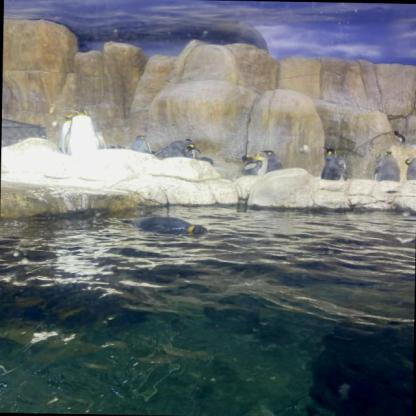penguin: (119, 214, 210, 238), (64, 108, 108, 156), (320, 146, 347, 182), (373, 151, 401, 181), (60, 113, 79, 153), (164, 138, 192, 159), (260, 150, 283, 172), (130, 135, 152, 155), (252, 153, 267, 177), (241, 153, 256, 175), (182, 143, 200, 160), (153, 144, 172, 160), (404, 156, 415, 181)
